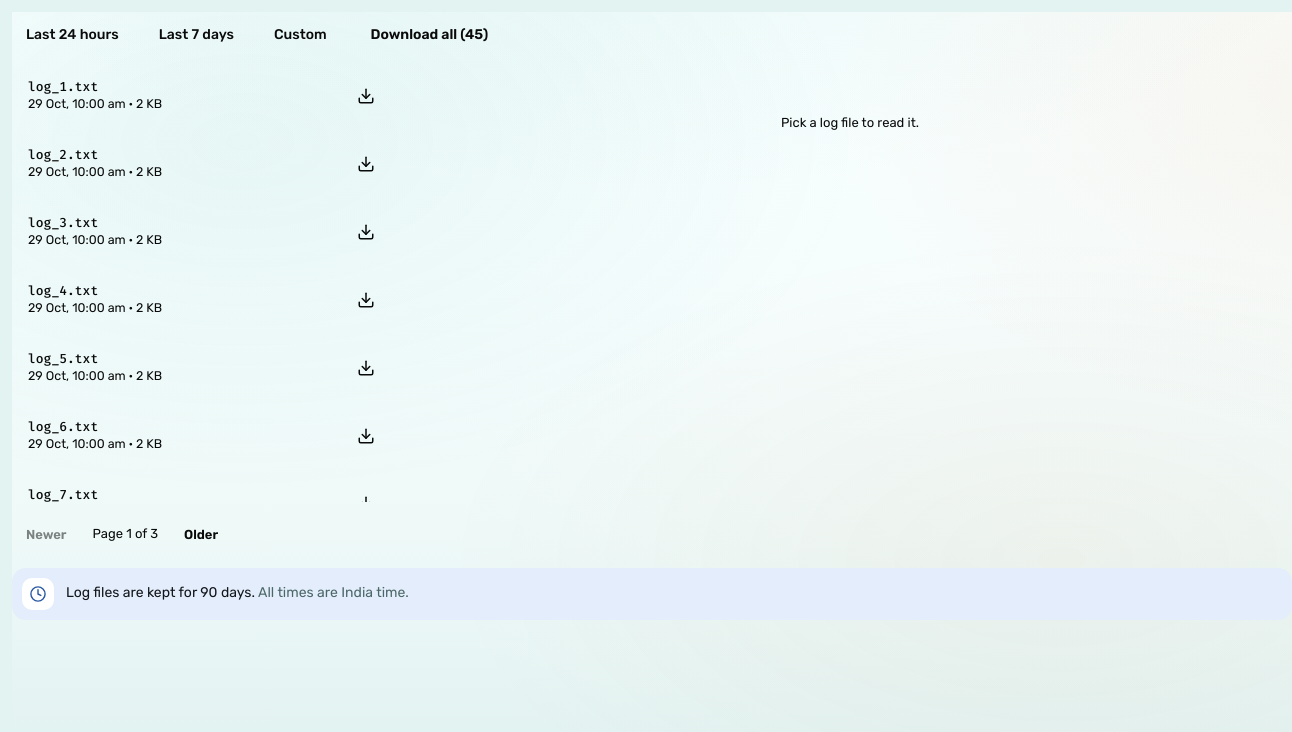
Test: OpsLogFiles › LG12 paging and retention note
Expected: the text "log_1.txt" is shown, [28,78,98,95]
Expected: the text "Log files are kept for 90 days. All times are India time." is shown, [66,584,409,601]
Click the button "Older" at (201, 534), box [170,514,232,554]
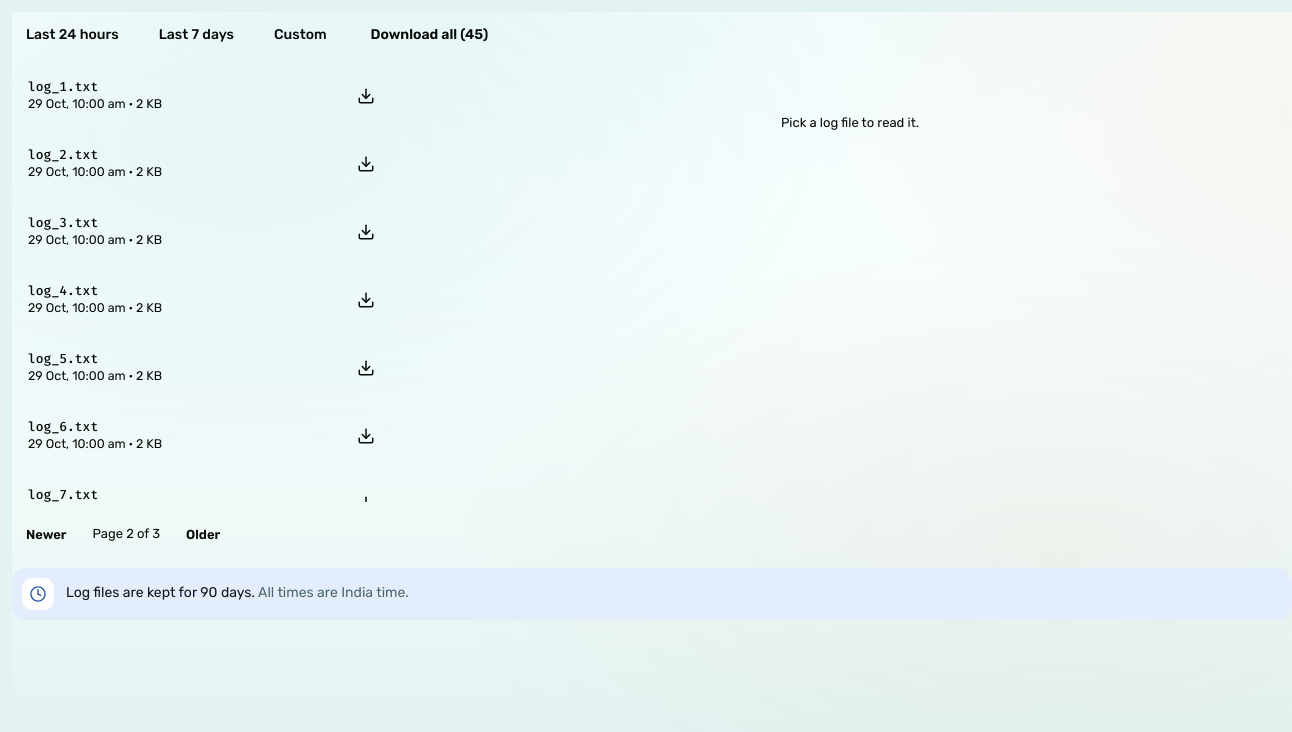
Expected: the text "Page 2 of 3" is shown, [92,524,160,544]
